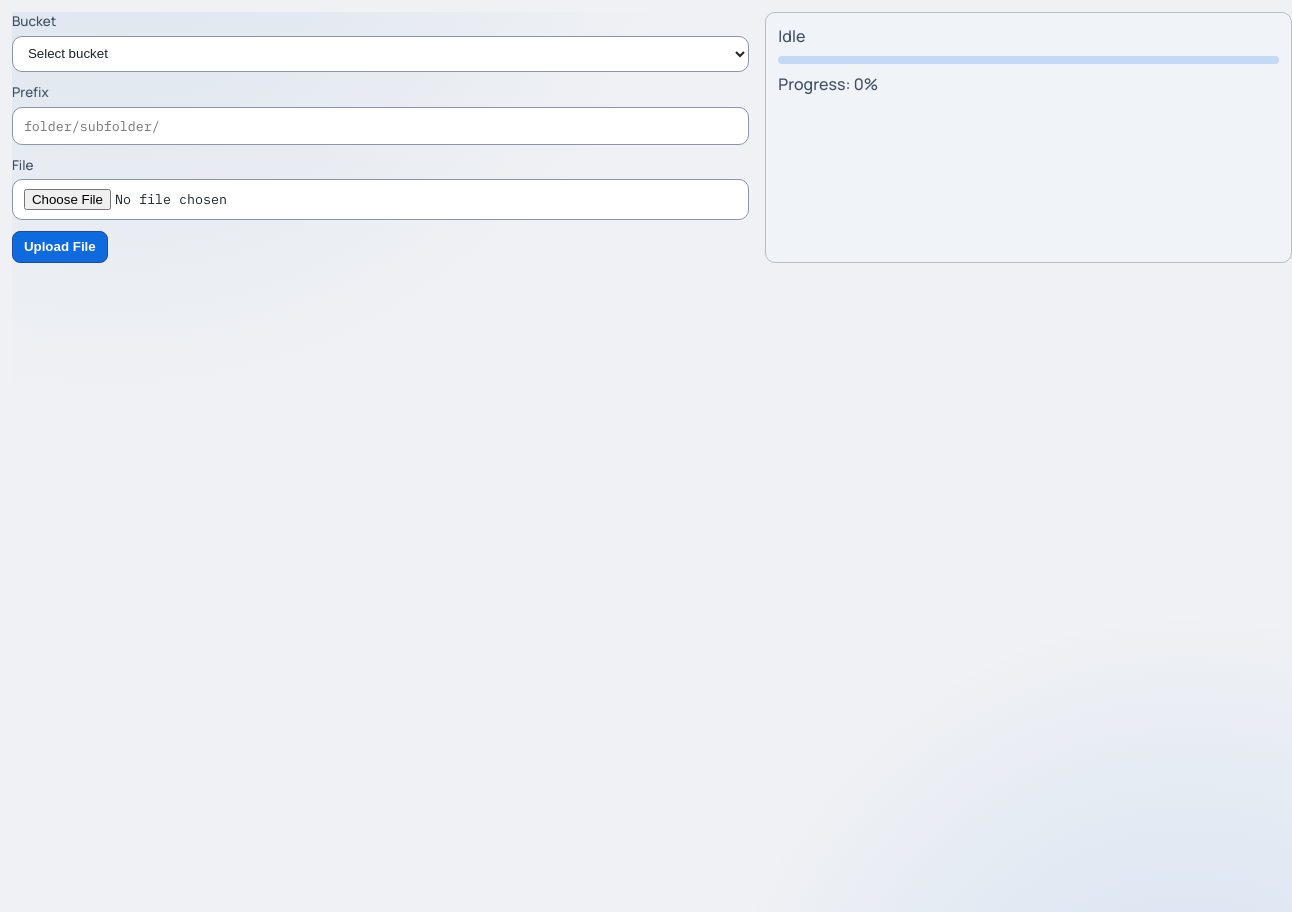
Scenario: UploadPanel › shows validation message when no file is selected
Select "my-bucket" in the dropdown labelled "Bucket". click: (381, 54)
box: [12,36,749,72]
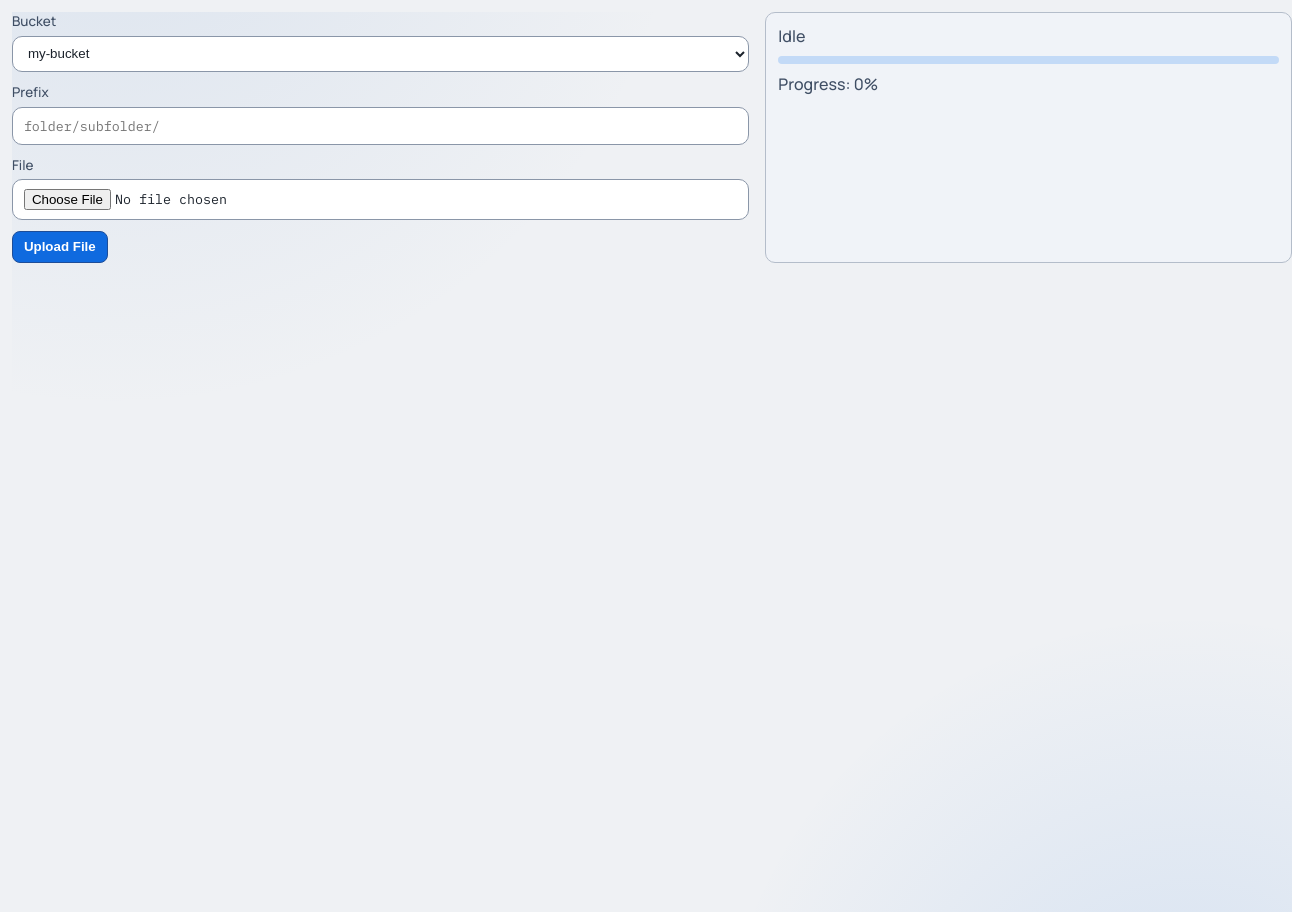
Click the button "Upload File". click: (60, 247)
box: [12,231,108,263]
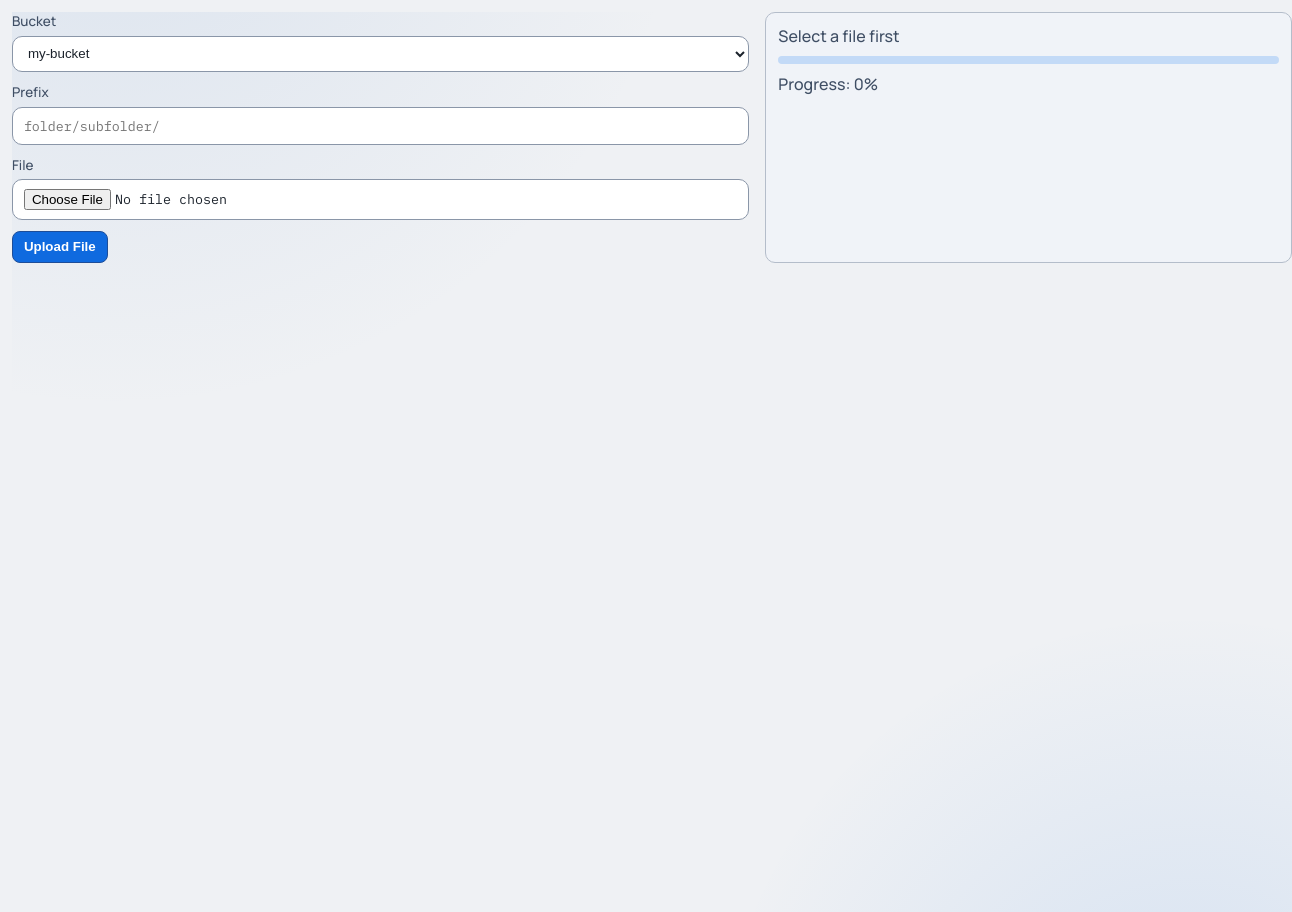
Result: the text "Select a file first" is shown at [778,25,900,47]
